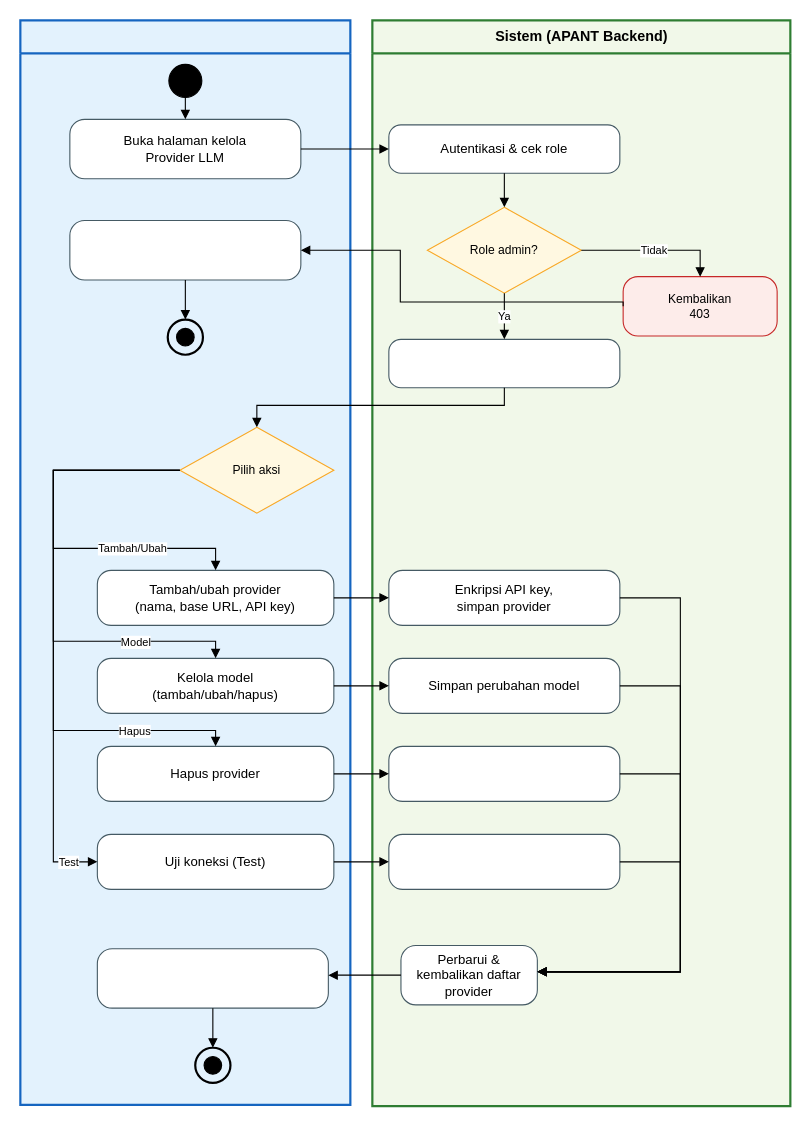
This 810x1125 diagram has some shape labels left out. The box of each missing label's shape, as (x1, y1, x2, y2) in pixels:
Admin: (19, 19, 351, 1106)
Hapus provider & model: (388, 745, 620, 801)
Lihat daftar terbaru: (96, 948, 328, 1008)
Panggil provider, kembalikan status koneksi: (388, 833, 620, 889)
Tampilkan "akses ditolak": (69, 219, 301, 280)
Tampilkan daftar provider & model: (388, 338, 620, 388)
